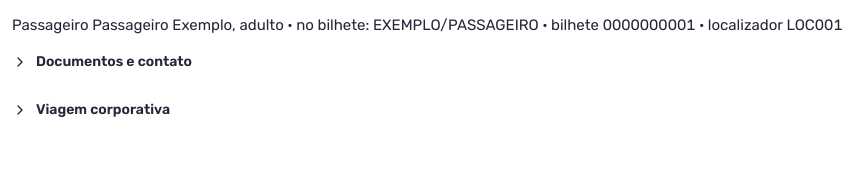
Scenario: Pessoa › a linha da pessoa, com o localizador, e os documentos recolhidos
The width and height of the screenshot is (859, 175).
Check: the text "Passageiro Passageiro Exemplo, adulto · no bilhete: EXEMPLO/PASSAGEIRO · bilhete 0000000001 · localizador LOC001" is shown, box [12,16,843,34]
Check: the text "000.000.000-00" is not shown
Step 1. Click the heading "Documentos e contato" → {"x": 102, "y": 62}, box [12,53,192,70]
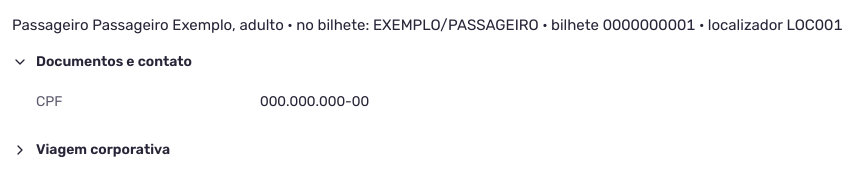
Check: the text "000.000.000-00" is shown, box [260,93,369,110]
